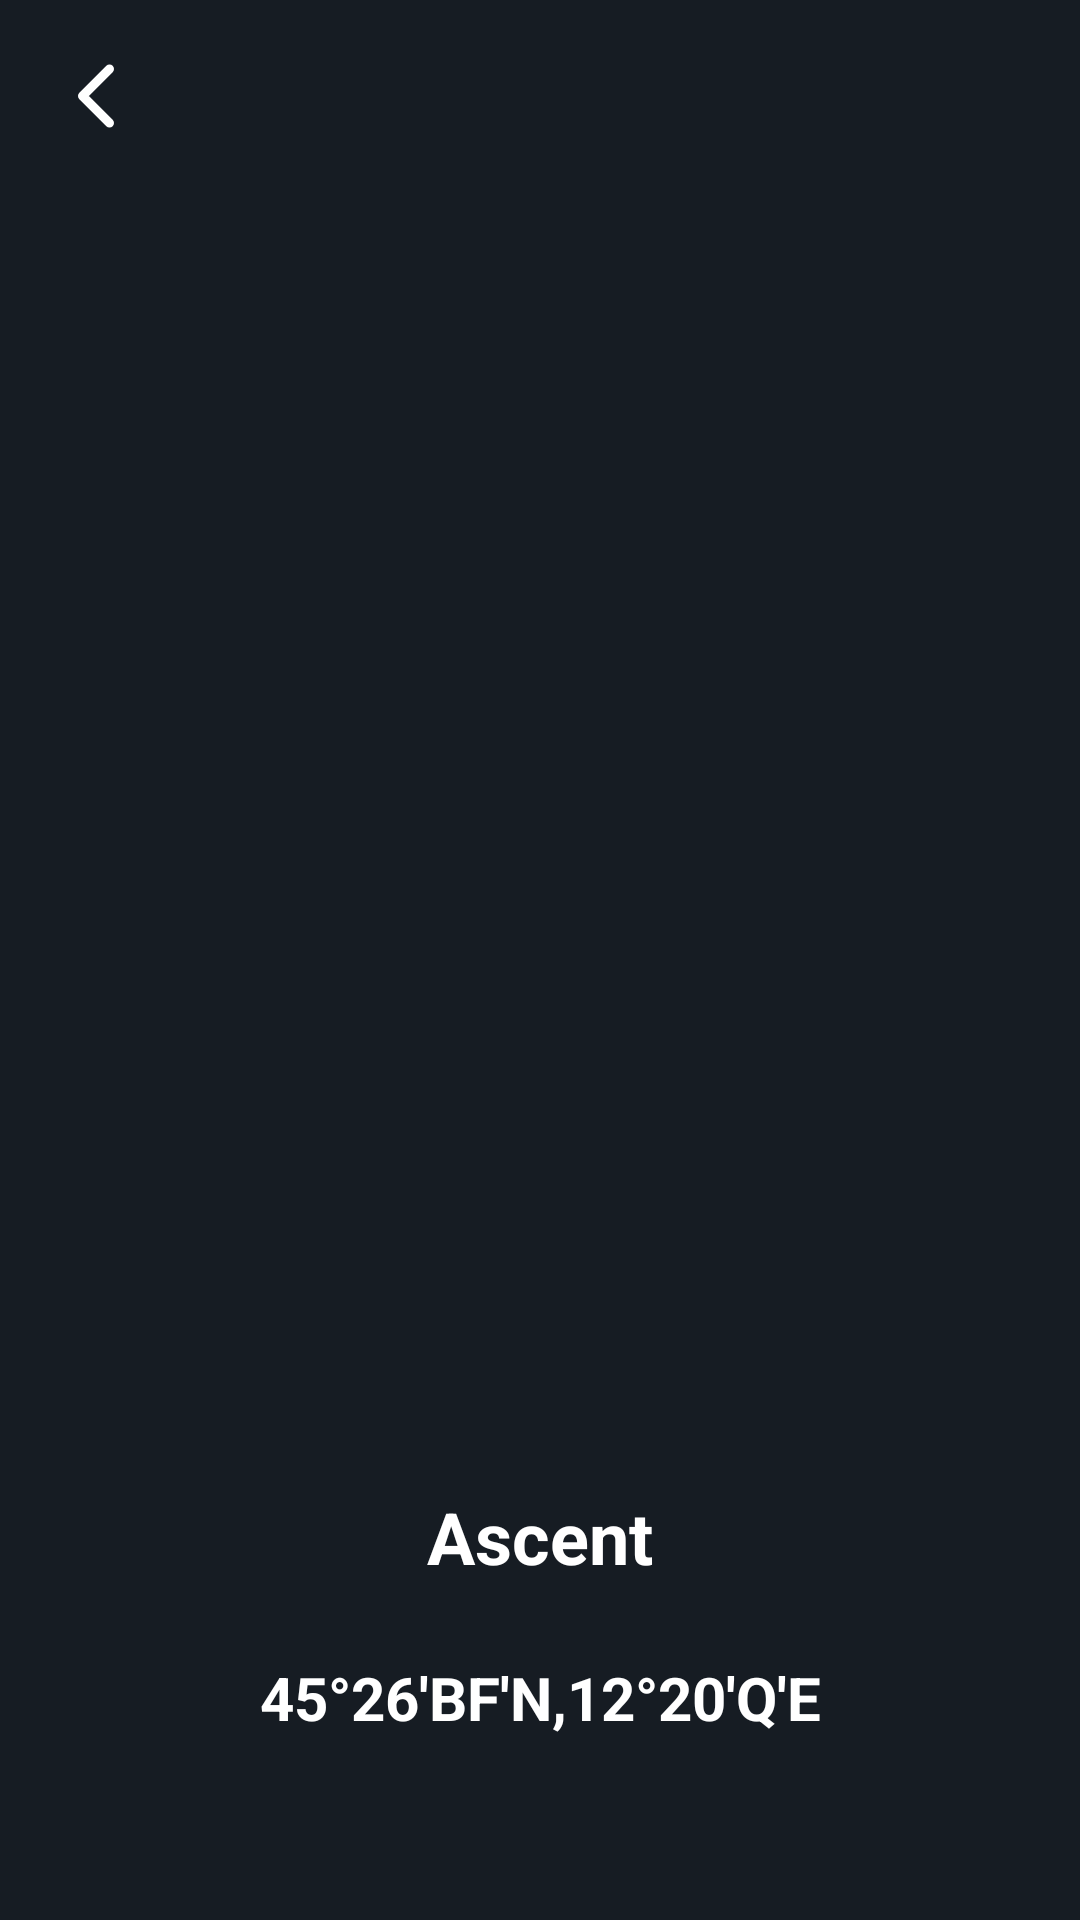

Point at icon controls on the screen. Image size 1080 × 1920, points as [x,y].
back: [96,96]
